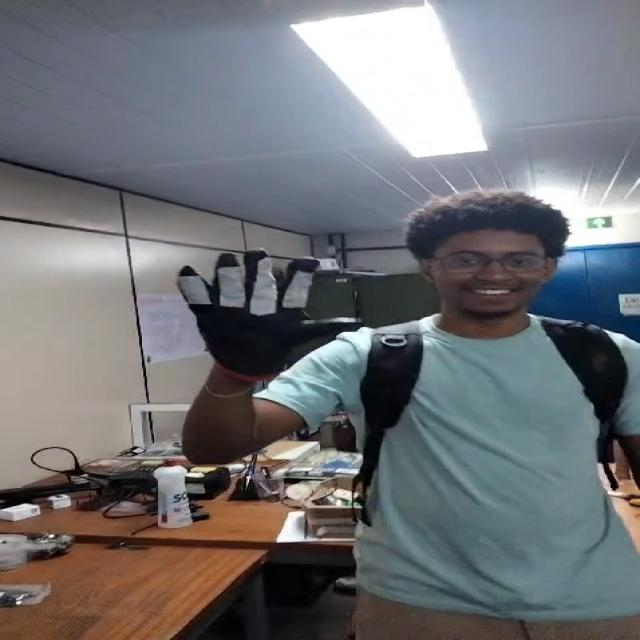Gloves: (178, 250, 362, 376)
